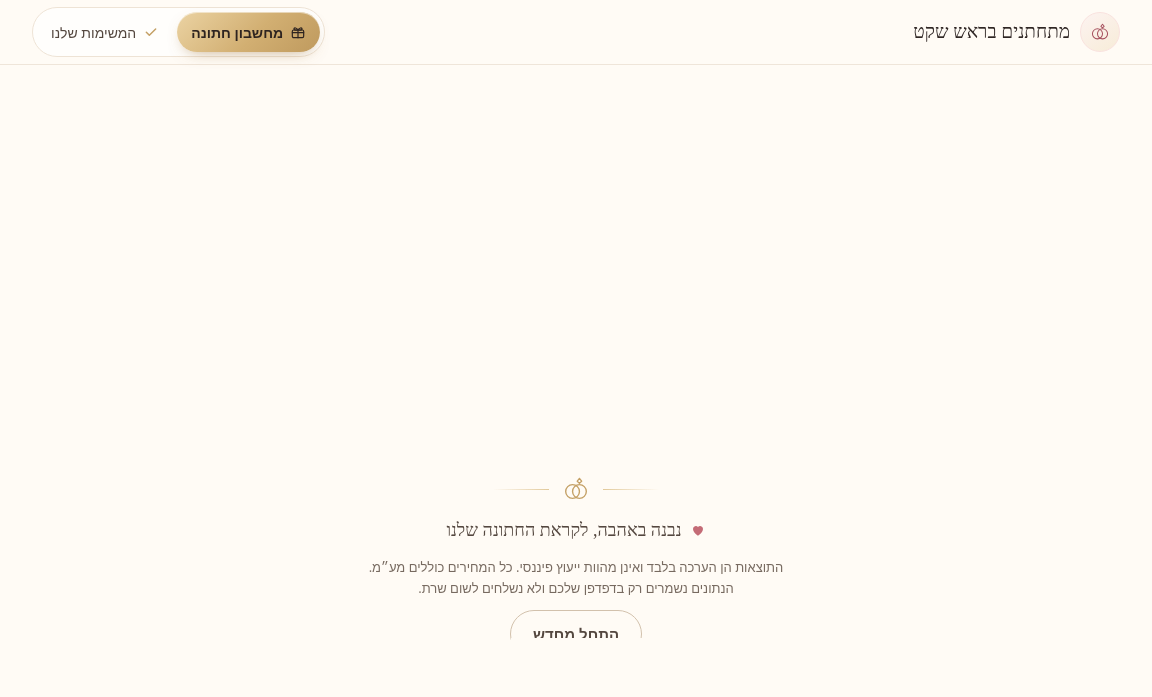
Scenario: Start over › keeps the data when the user cancels
(page scrolled)
What coordinates should you click on to do the following:
click the button "התחל מחדש"
I would click on:
 (576, 634)
Its box is [510,610,642,658].
(page scrolled)
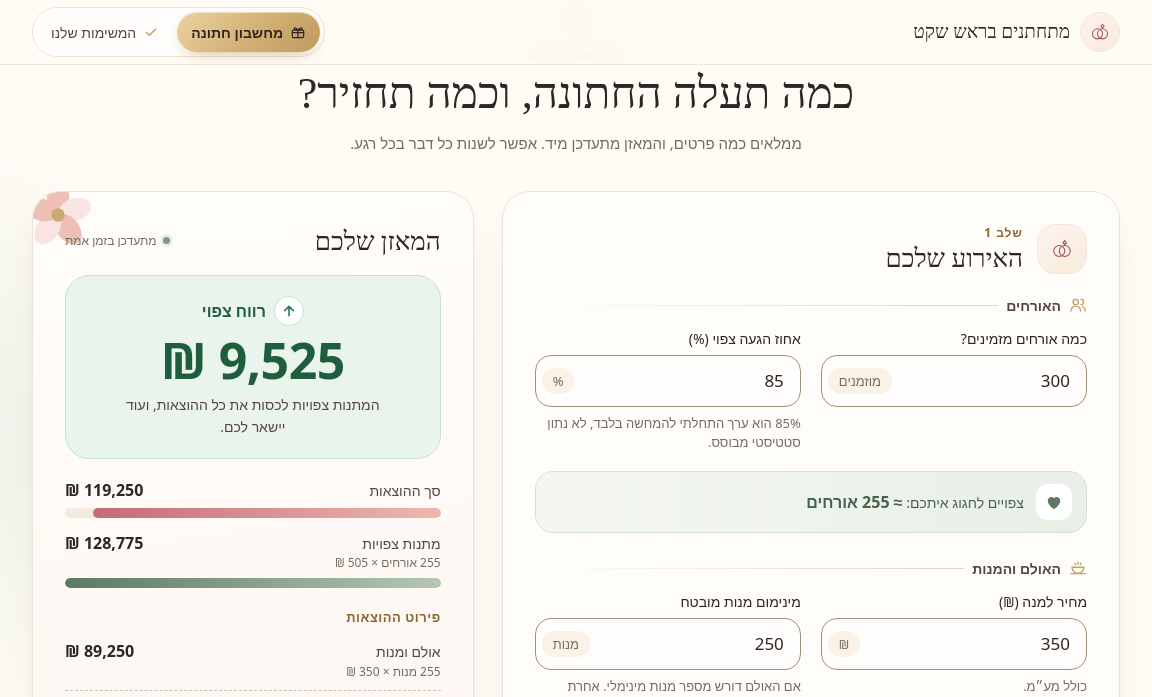
Check: the field labelled "כמה אורחים מזמינים?" holds "300", box [892,358,1086,404]
